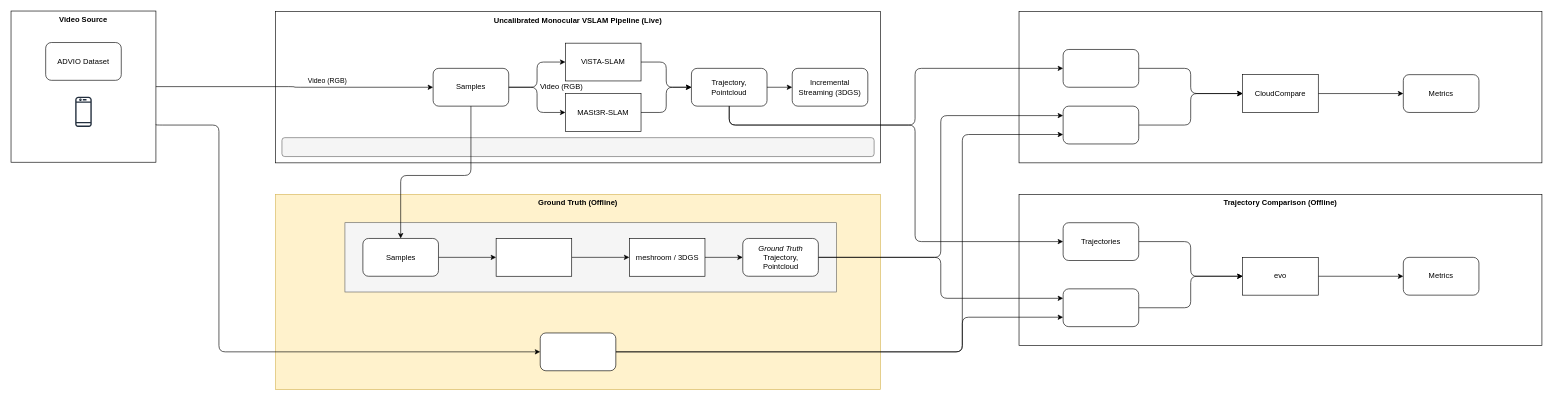
Some shapes in this 1553 by 401 pixel diagram are drawn without their labels. The shapes that lost their labels are listed below. From the top down, each one's box as (x1, y1, x2, y2) in pixels, then its label:
(1062, 49, 1139, 87): Pointclouds
(1018, 11, 1542, 163): Point Cloud Comparison (Offline)
(64, 92, 102, 131): Mobile client
(1062, 106, 1139, 144): Ground Truth Pointcloud
(281, 137, 874, 157): Performance Metrics
(495, 238, 572, 276): colmap
(344, 222, 836, 292): Optional
(1062, 288, 1139, 327): Ground Truth Trajectory
(540, 332, 616, 371): Given Ground Truth
